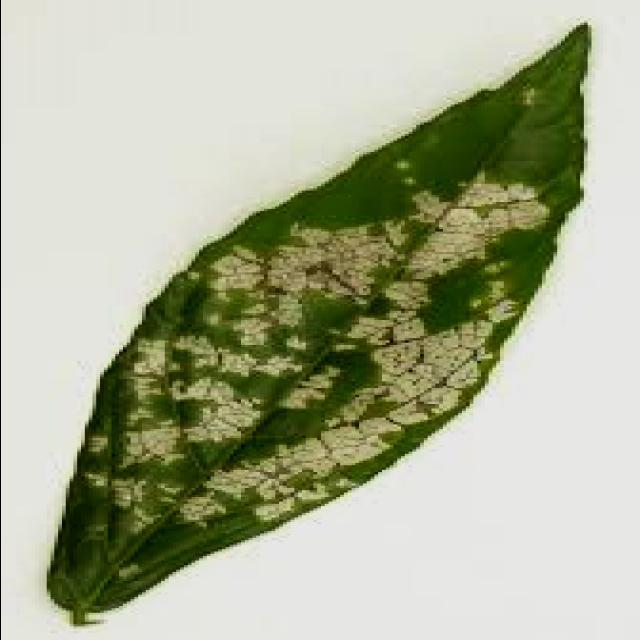leaf: (45, 21, 590, 626)
